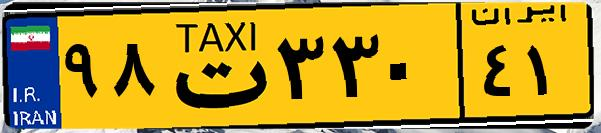0: (385, 28, 445, 110)
1: (525, 38, 570, 115)
3: (270, 28, 330, 110), (330, 28, 385, 110)
4: (475, 38, 525, 113)
8: (110, 28, 158, 98)
9: (57, 26, 110, 100)
ت: (158, 12, 270, 120)
